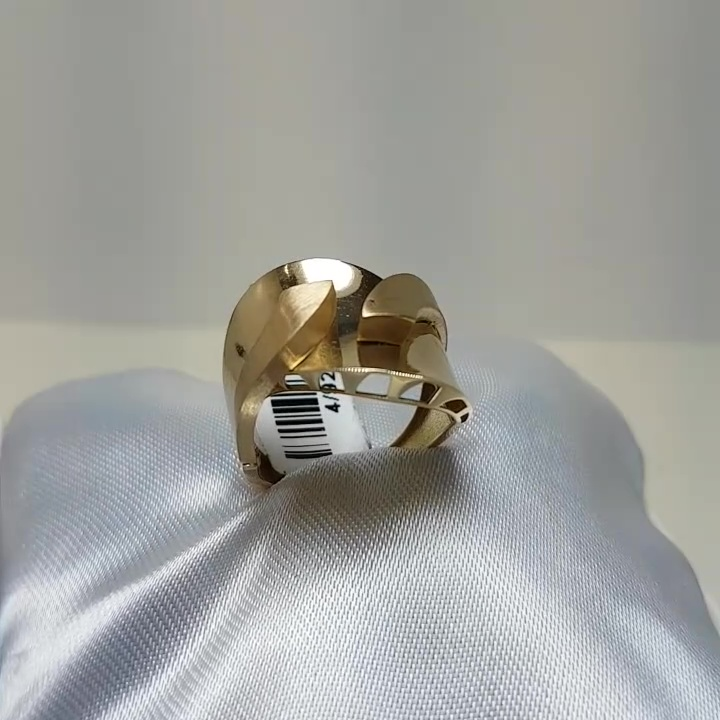Ring 4: (209, 244, 473, 506)
